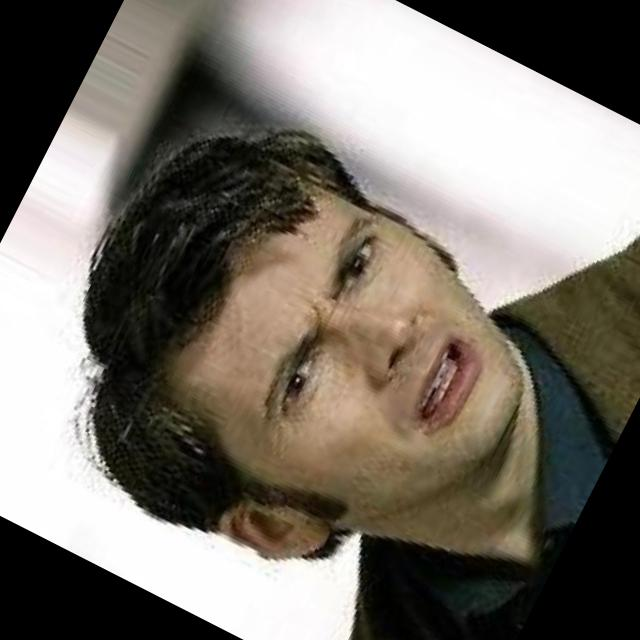bareface: (22, 120, 562, 636)
